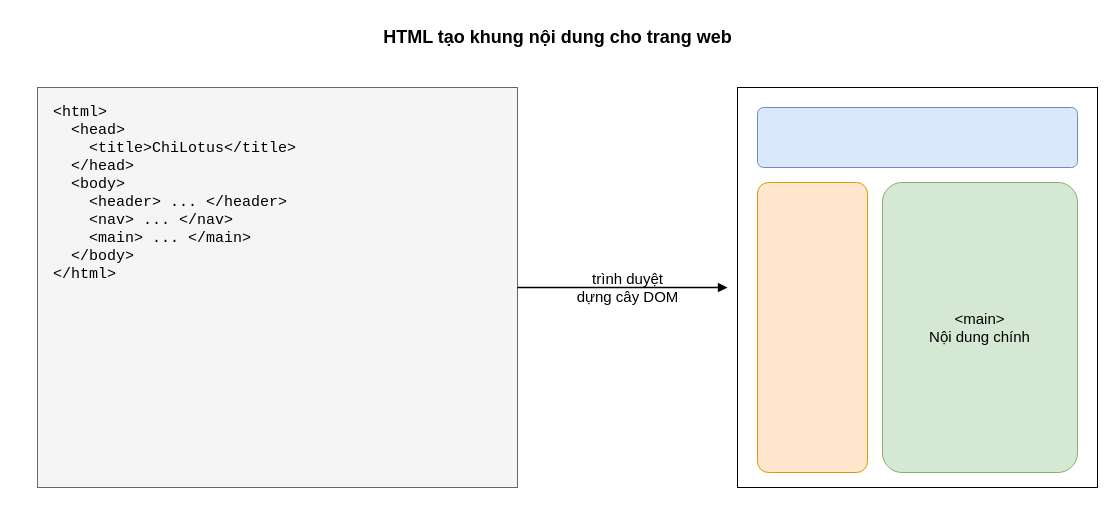
Image size: 1115x505. Some labels were removed from this diagram. The centre of each missing label's shape, as x and y in pixels:
"<header> Tiêu đề trang" goes at point 917,137.
"<nav> Menu" goes at point 812,327.
